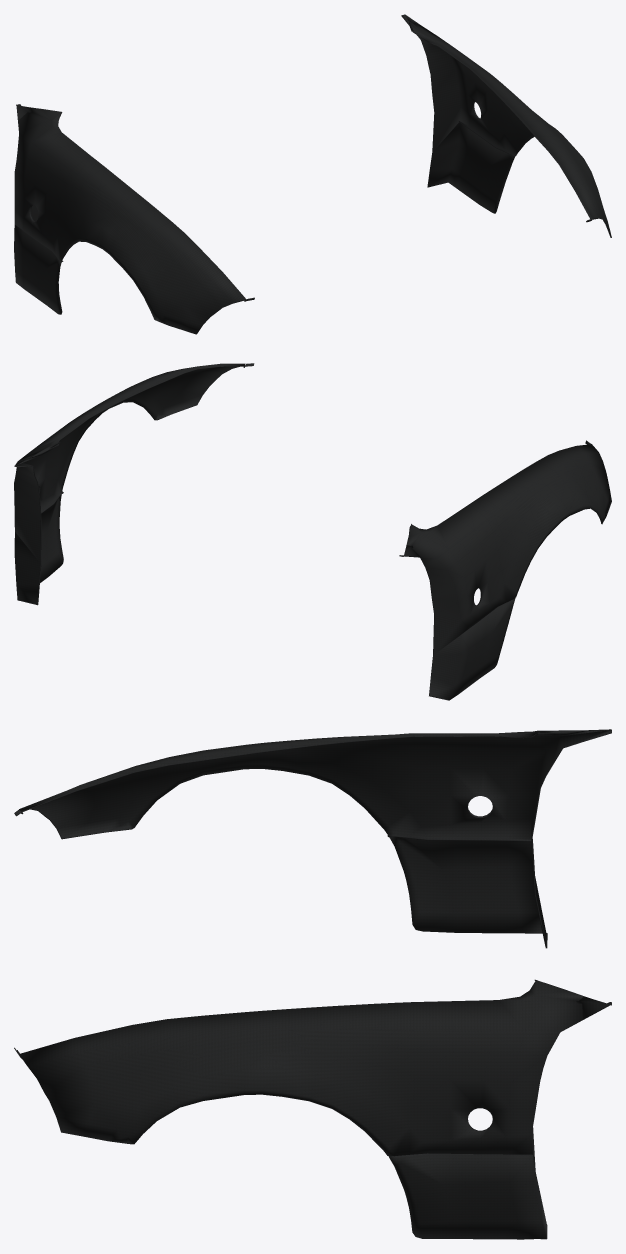
File: BP43_carbon_front_fenders.glb
The picture shows the model from 3 angles, top to bottom: view 1: azimuth 30°, elevation 25°; view 2: azimuth 150°, elevation 25°; view 3: azimuth 270°, elevation 25°; orthographic projection. The views are drawn at different scales.
Visible parts, largest first — view 1: MOD_NA_BP43_panel_pair; view 2: MOD_NA_BP43_panel_pair; view 3: MOD_NA_BP43_panel_pair.
Boxes of the visible parts, box(x1,y1,x2,y2) form: MOD_NA_BP43_panel_pair: box(14, 14, 611, 334); MOD_NA_BP43_panel_pair: box(14, 363, 611, 700); MOD_NA_BP43_panel_pair: box(14, 729, 611, 1239).
Bounding box in the file's own units: 1.7 × 0.5941 × 1.35.
1 material, 1 textured.
